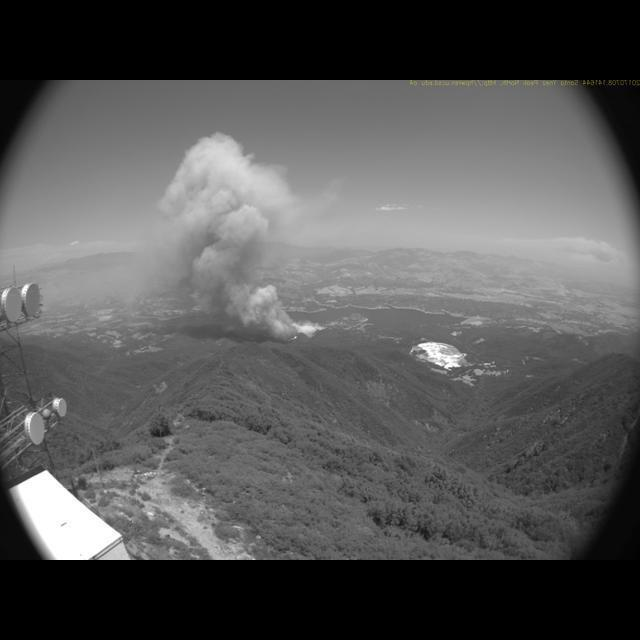Smoke: (150, 126, 328, 345)
